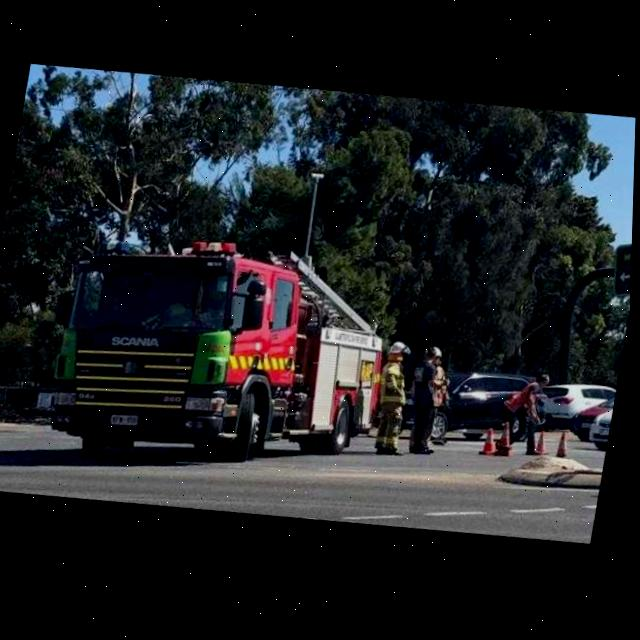emergency: (40, 214, 407, 493)
